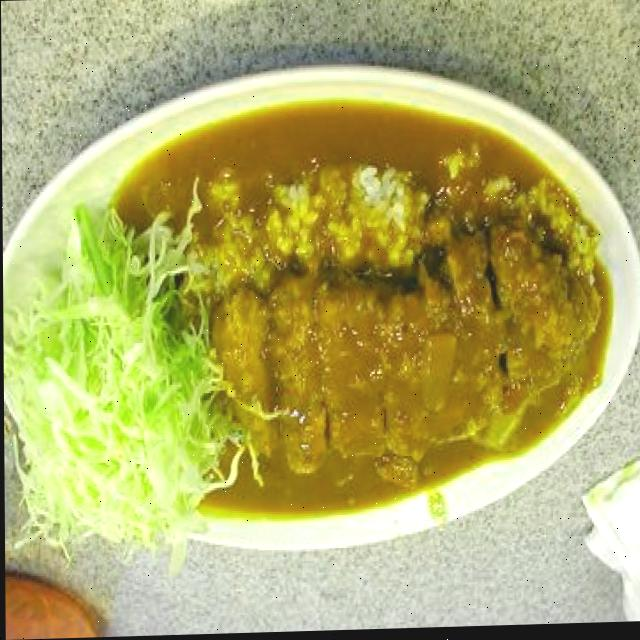猪肉菜式: (0, 47, 640, 592)
